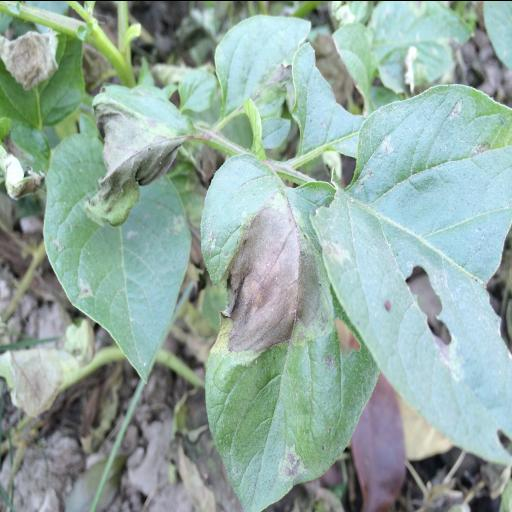Late Blight: (196, 136, 386, 510)
